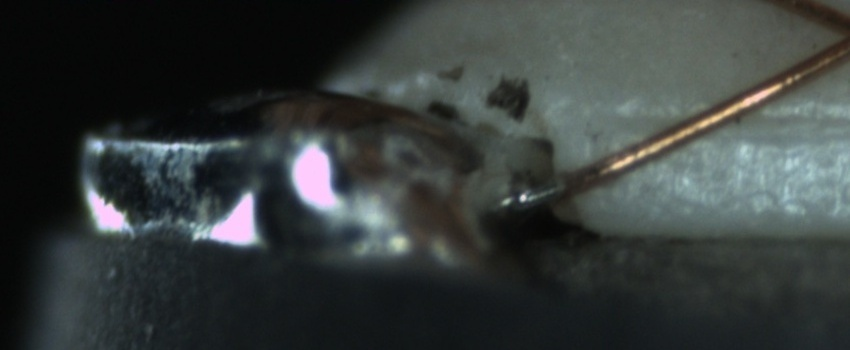DL: (615, 85, 846, 158)
TS: (494, 179, 564, 213)
